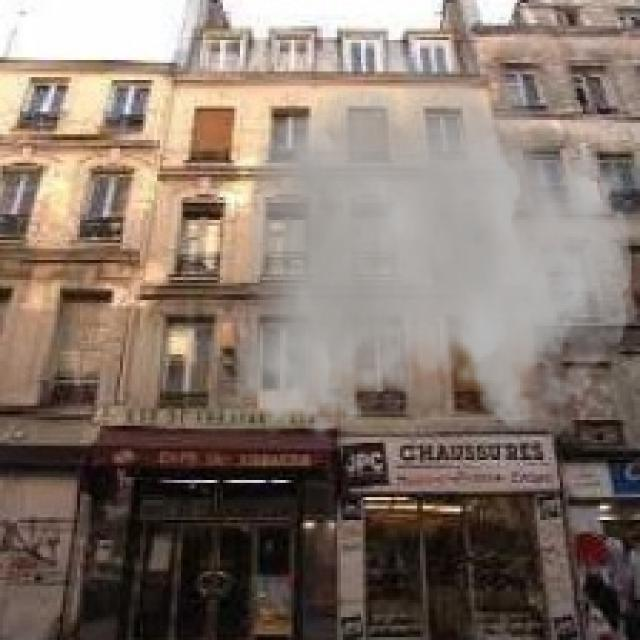smoke: (228, 29, 632, 440)
